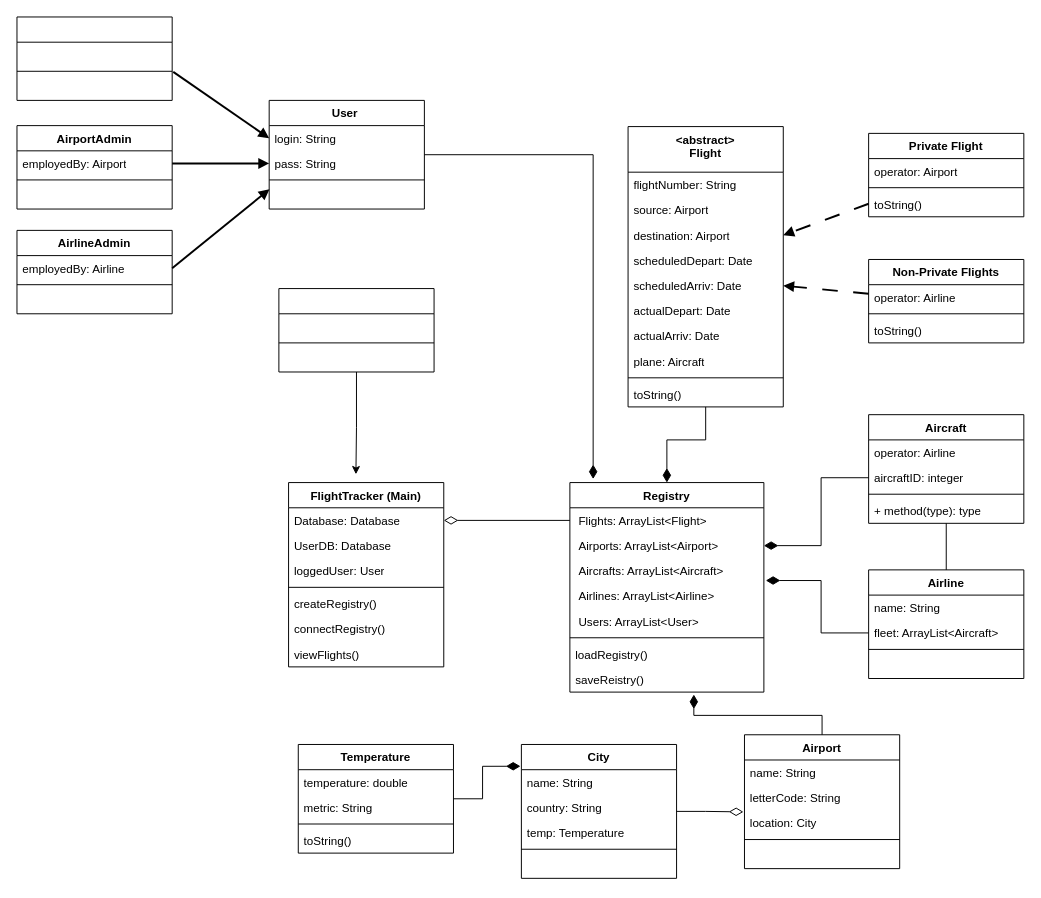
The diagram is 1041 pixels wide and 898 high, and some of its shapes have lost their labels. The centre of each missing label's shape, as x and y in pixels:
"SysAdmin" belongs at (x=94, y=58).
"UI" belongs at (x=356, y=330).
